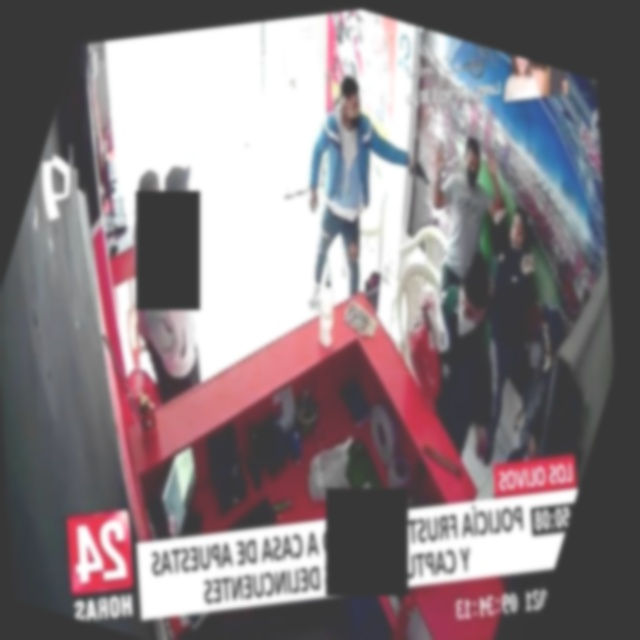gun: (390, 136, 448, 206)
